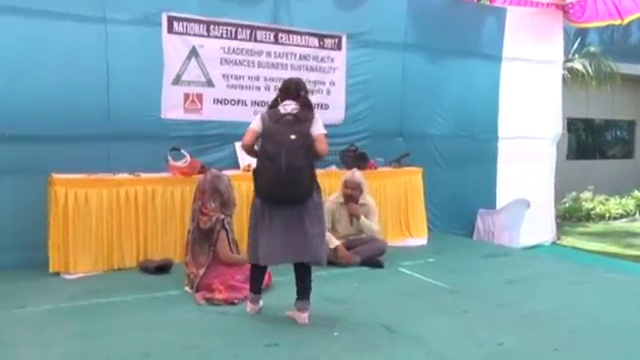helmet_off: (192, 172, 236, 214), (275, 76, 309, 104), (340, 172, 365, 204)
person: (241, 76, 328, 328), (183, 170, 271, 304), (317, 168, 391, 268)
